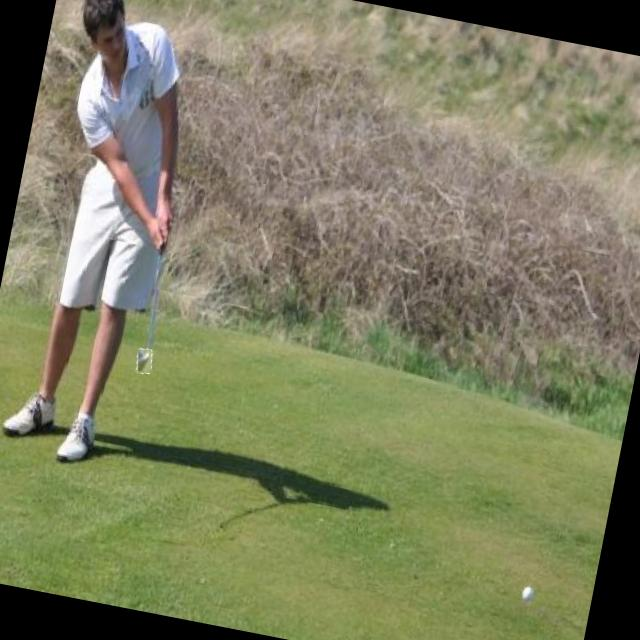club head: (135, 348, 154, 375)
